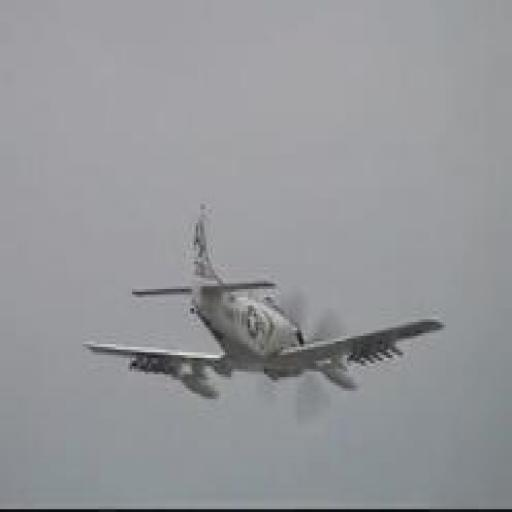aircraft: (85, 202, 447, 401)
